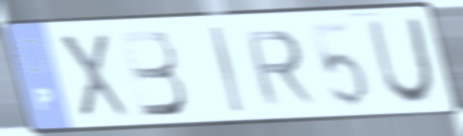5: (307, 18, 372, 108)
B: (117, 26, 190, 119)
I: (206, 23, 247, 115)
R: (241, 26, 319, 108)
U: (364, 14, 439, 107)
X: (54, 30, 133, 121)
